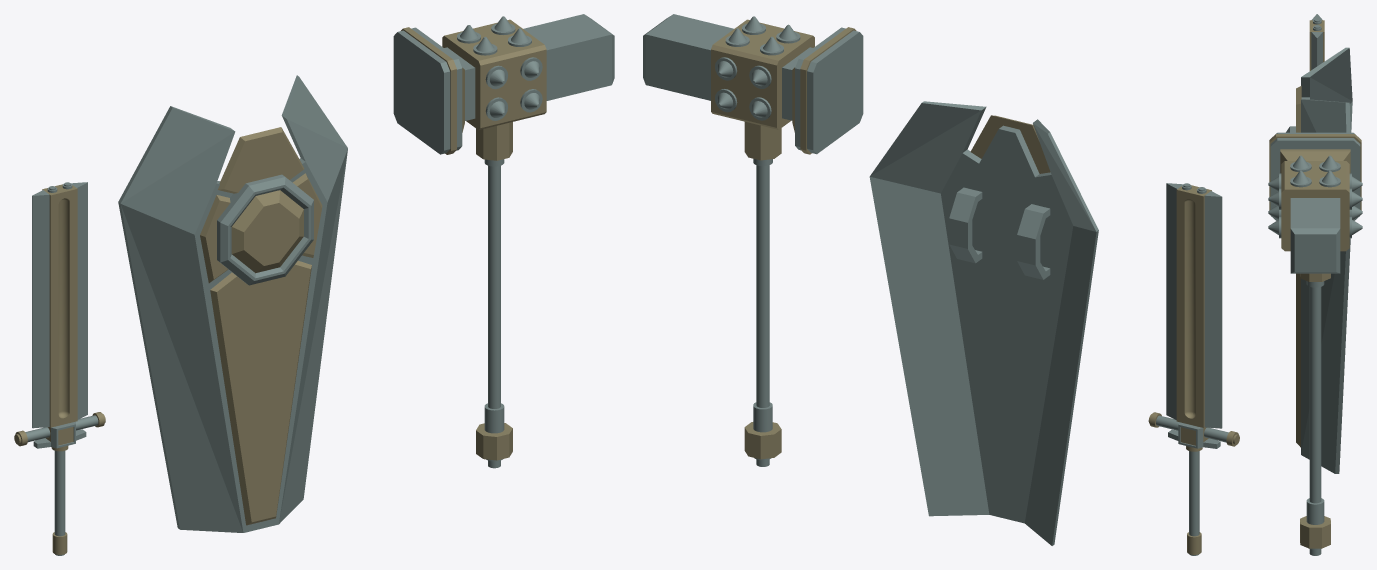
Rendered from Weapons.fbx.
The picture shows the model from 3 angles, left to right: view 1: azimuth 30°, elevation 25°; view 2: azimuth 150°, elevation 25°; view 3: azimuth 270°, elevation 25°; orthographic projection. The views are drawn at different scales.
Parts seen in each view (by area): view 1: Plane.001, Cylinder.004, Cube, Cube.005, Cylinder.003, Cube.008, Cylinder.014, Cylinder.009, Cylinder.010, Cylinder.001, Cube.001, Cylinder; view 2: Plane.001, Cube, Cube.005, Cube.008, Cylinder.014, Cube.002, Cylinder.009, Cylinder.010, Cylinder.004, Cylinder.001, Cube.001, Cylinder; view 3: Plane.001, Cube.005, Cylinder.014, Cube.008, Cylinder.009, Cylinder.004, Cylinder.010, Cube.
Boxes of the visible parts, x1,y1,x2,y2 form: Plane.001: [118, 75, 347, 532]; Cylinder.004: [200, 127, 322, 525]; Cube: [32, 182, 87, 441]; Cube.005: [393, 14, 614, 154]; Cylinder.003: [217, 174, 313, 285]; Cube.008: [442, 19, 546, 130]; Cylinder.014: [484, 159, 504, 468]; Cylinder.009: [457, 16, 542, 120]; Cylinder.010: [476, 122, 512, 460]; Cylinder.001: [51, 445, 68, 555]; Cube.001: [33, 421, 86, 448]; Cylinder: [14, 412, 105, 446]; Plane.001: [869, 101, 1098, 545]; Cube: [1166, 183, 1222, 441]; Cube.005: [643, 14, 863, 154]; Cube.008: [711, 19, 814, 129]; Cylinder.014: [753, 159, 772, 466]; Cube.002: [949, 187, 1050, 279]; Cylinder.009: [715, 16, 800, 120]; Cylinder.010: [744, 122, 781, 459]; Cylinder.004: [970, 115, 1050, 173]; Cylinder.001: [1186, 446, 1202, 555]; Cube.001: [1168, 422, 1220, 448]; Cylinder: [1148, 412, 1239, 446]; Plane.001: [1301, 47, 1352, 473]; Cube.005: [1269, 132, 1361, 273]; Cylinder.014: [1306, 281, 1324, 555]; Cube.008: [1281, 161, 1349, 251]; Cylinder.009: [1268, 155, 1362, 238]; Cylinder.004: [1296, 86, 1301, 447]; Cylinder.010: [1300, 273, 1330, 548]; Cube: [1309, 14, 1324, 70].
Bounding box in the file's own units: 181 × 130 × 28.4.
